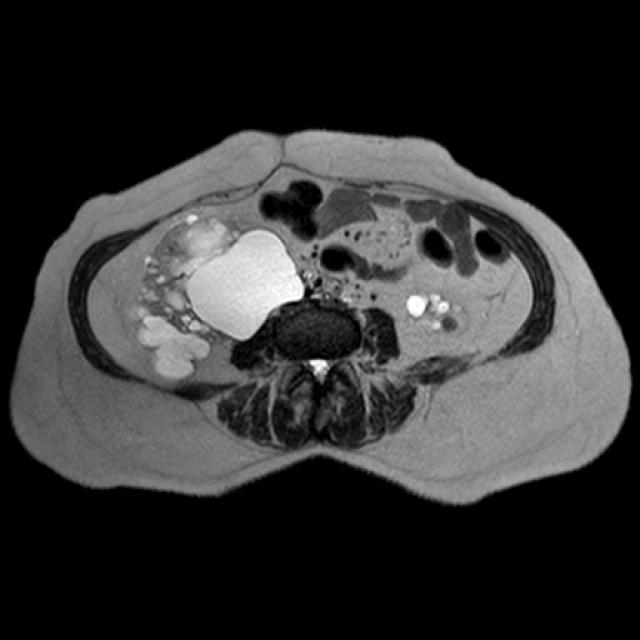sag: (126, 212, 304, 379)
sol: (404, 291, 470, 335)
